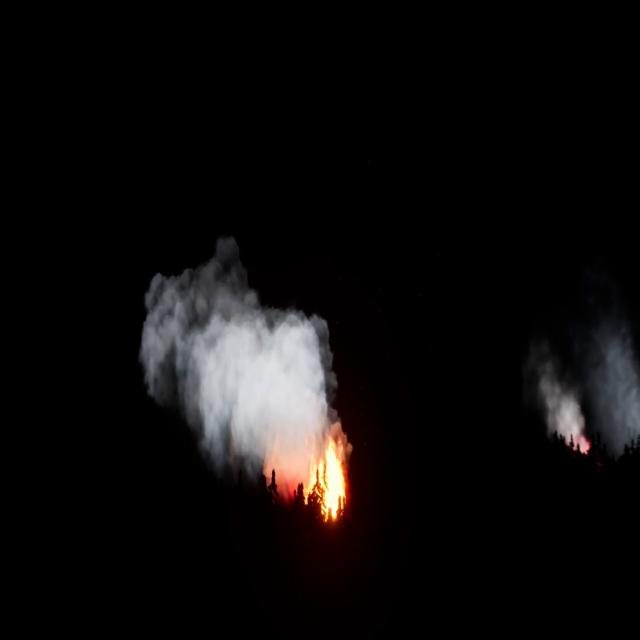fire: (308, 430, 350, 524), (568, 430, 592, 452)
smoke: (140, 226, 337, 495), (540, 327, 640, 455)
